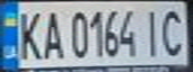0: (66, 7, 87, 60)
1: (87, 7, 106, 58)
4: (118, 6, 142, 57)
6: (103, 7, 124, 57)
A: (39, 7, 66, 61)
C: (157, 6, 190, 57)
I: (139, 6, 166, 57)
K: (12, 6, 45, 62)
